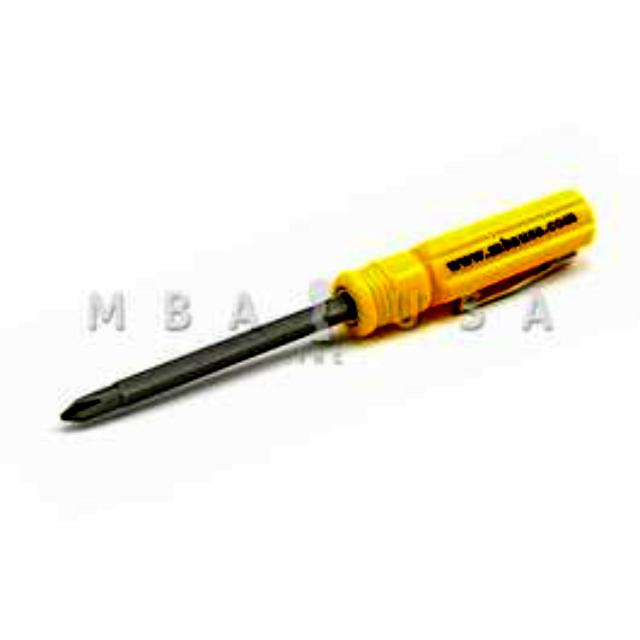ice pick: (58, 191, 594, 425)
